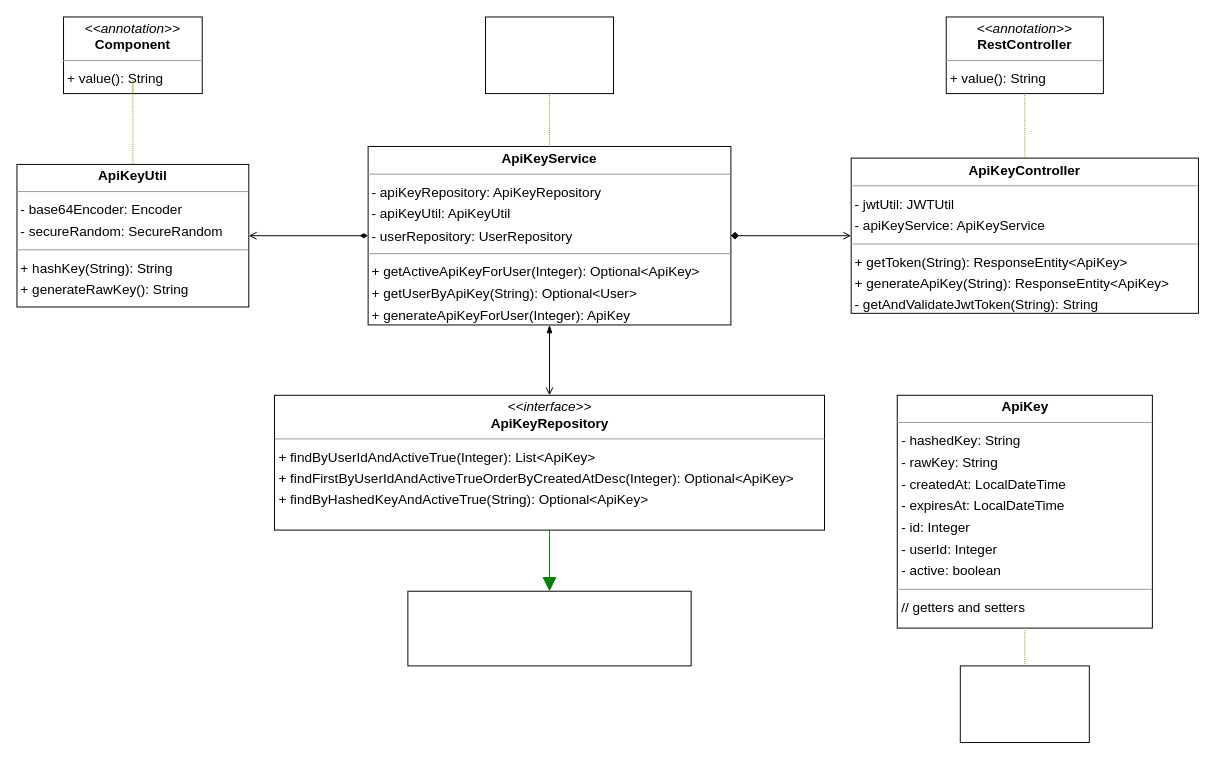
This 1215x760 diagram has some shape labels left out. The shapes that lost their labels are listed below. From the top down, each one's box as (x1, y1, x2, y2) in pixels, then its label:
(485, 16, 614, 94): <<annotation>> Service + value(): String
(407, 590, 691, 666): <<interface>> JpaRepository ...
(959, 665, 1089, 743): <<annotation>> Entity + name(): String
